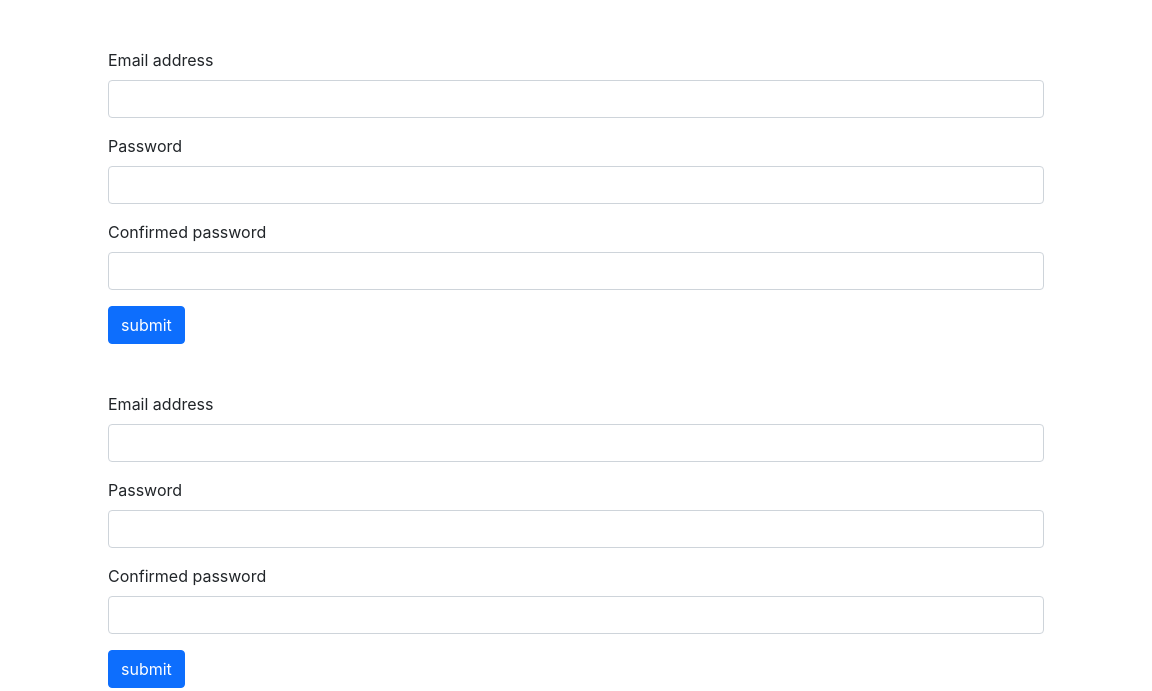
Test case: App › Error Handling › should show error if password isn't equal to confirmed password
In the field labelled "Email address": (576, 99) [108,80,1044,118], type "selena@gomez.com"
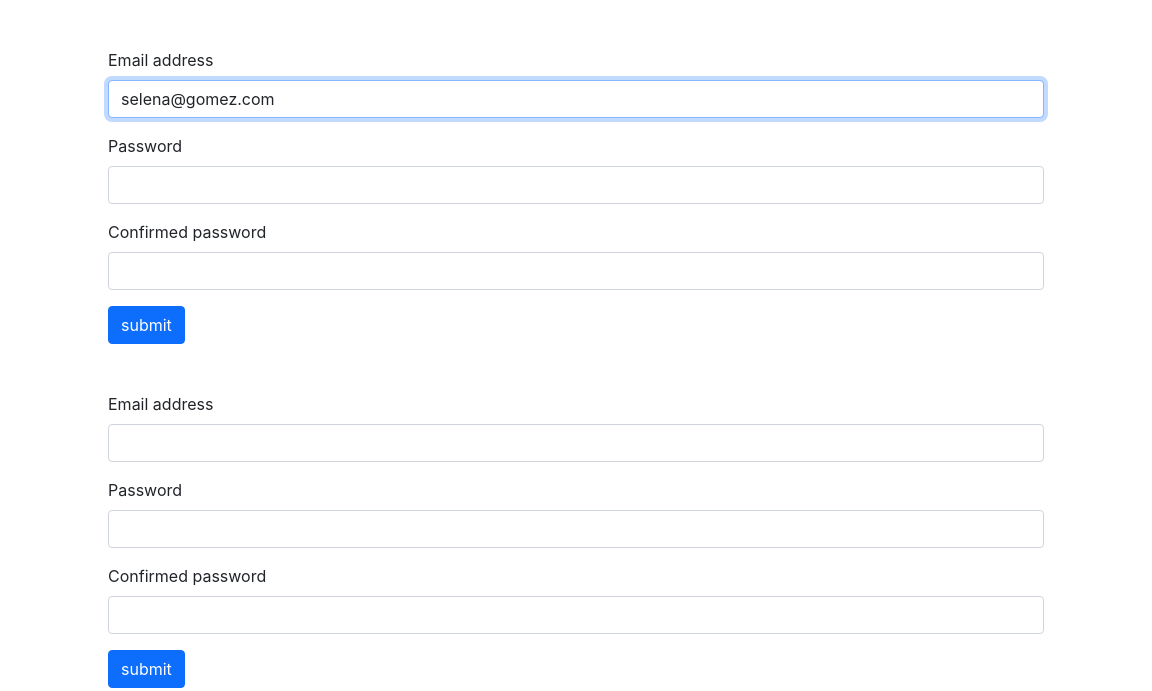
In the password field labelled "Password": (576, 185) [108,166,1044,204], type "selenagomez"
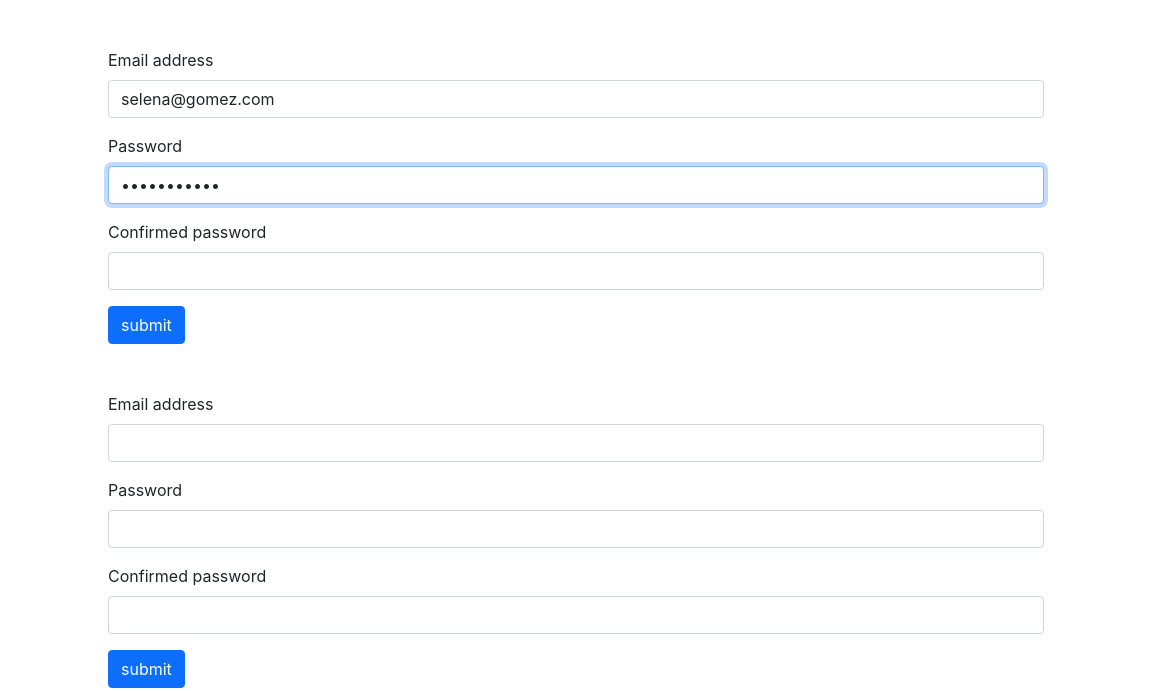
In the password field labelled "Confirmed password": (576, 271) [108,252,1044,290], type "selena"
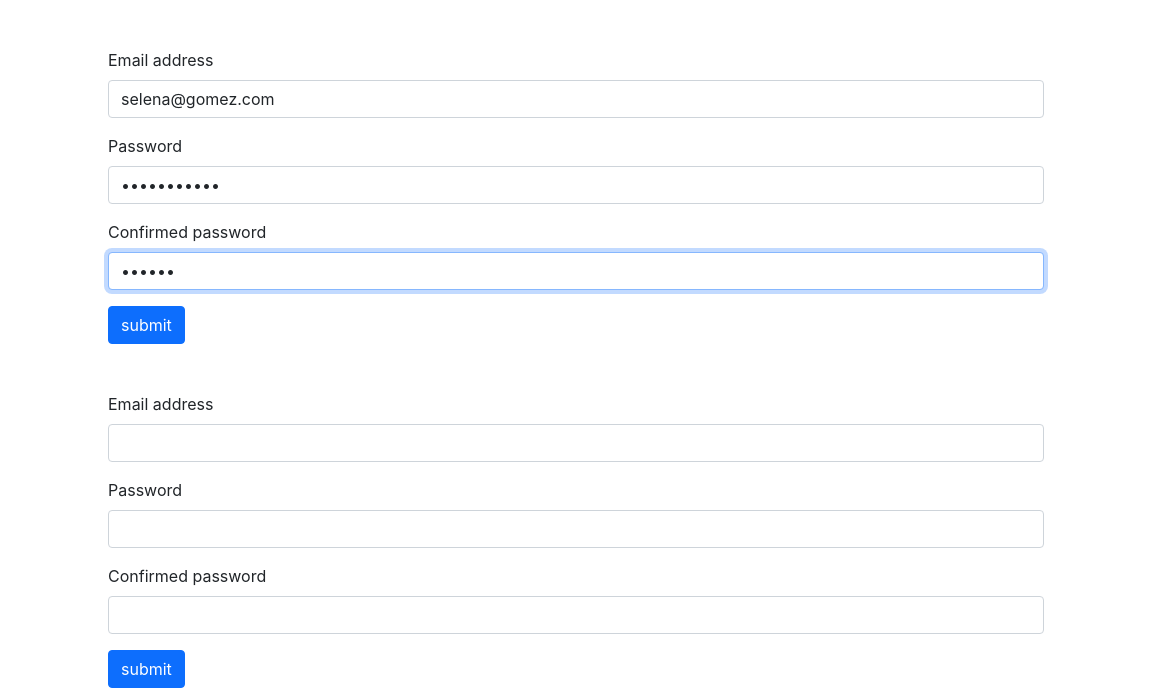
Click the 1st button "submit": (146, 325) [108,306,185,344]
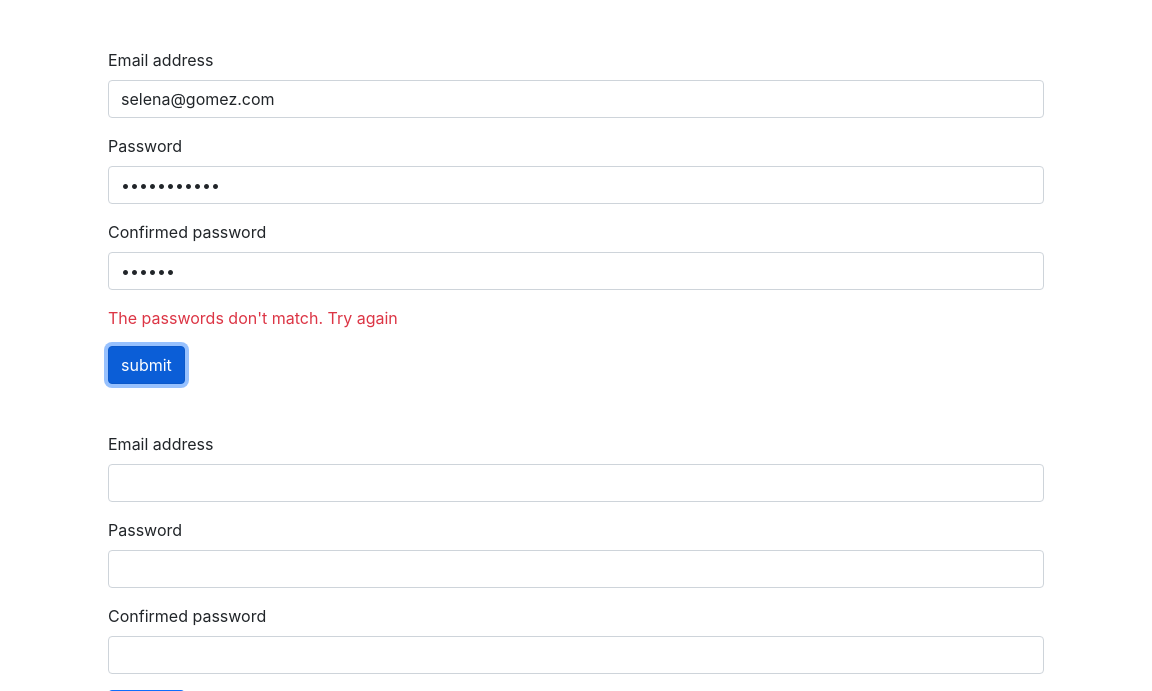
Expected: the text "The passwords don't match. Try again" is shown, [108,308,398,328]
